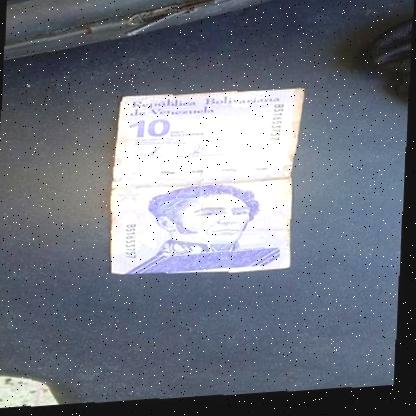vef_front: (111, 87, 304, 285)
